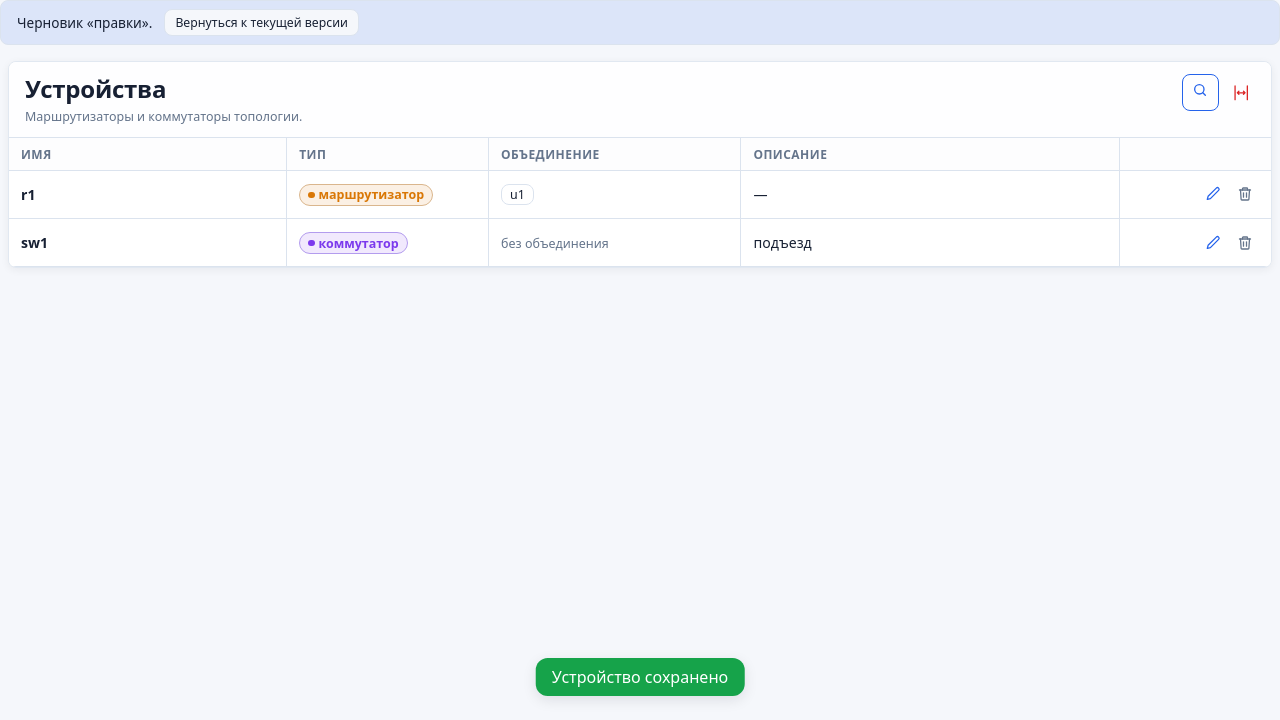
Test: DevicesPage › deletes through delete-device
Expected: the text "r1" is shown, [9, 170, 287, 218]
Step 1. Click the button titled "Удалить устройство r1" → (1245,194), box [1231, 180, 1259, 208]
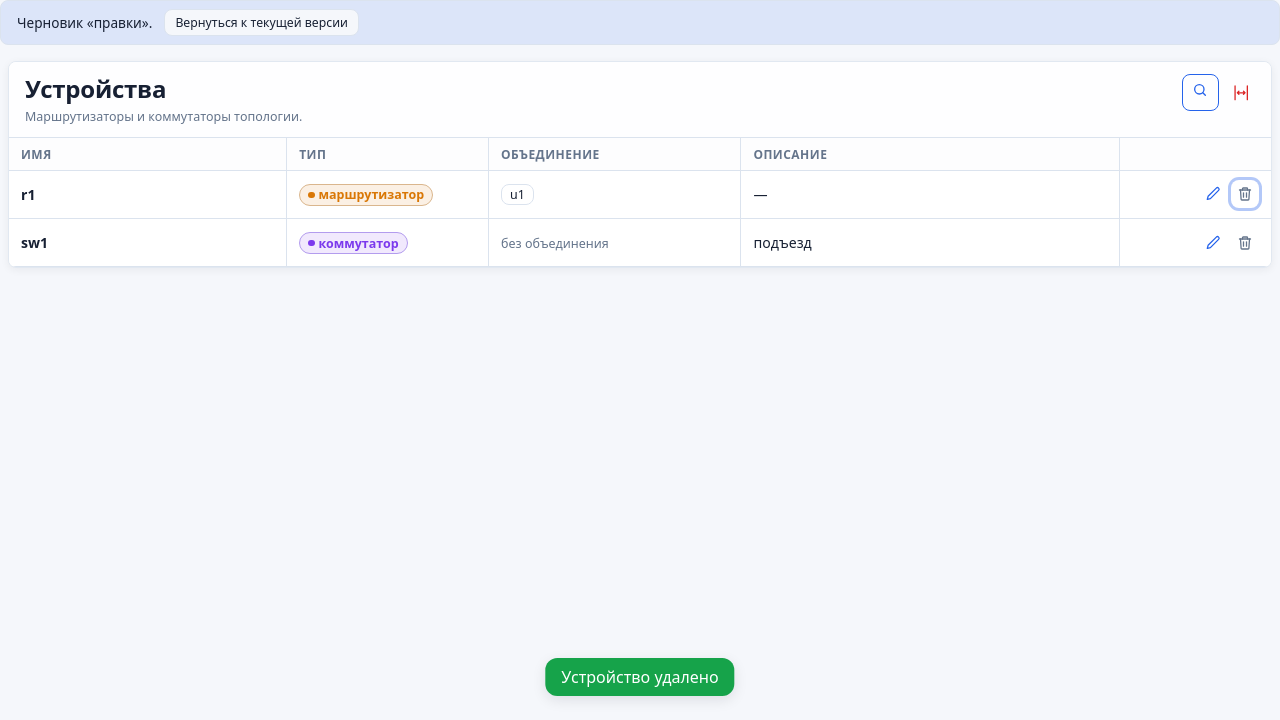
Now the text "Устройство удалено" is shown, box [545, 658, 735, 696]
